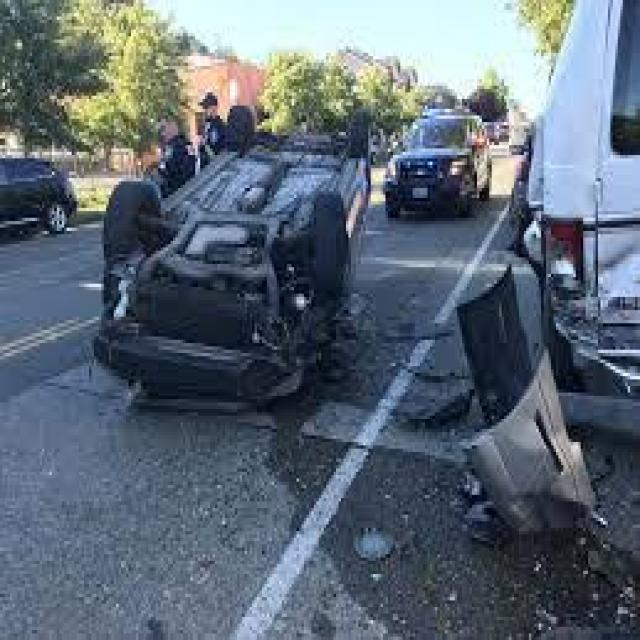multiple_accident: (137, 87, 353, 411), (487, 156, 640, 533)
normal: (399, 110, 503, 223), (4, 143, 97, 241)
